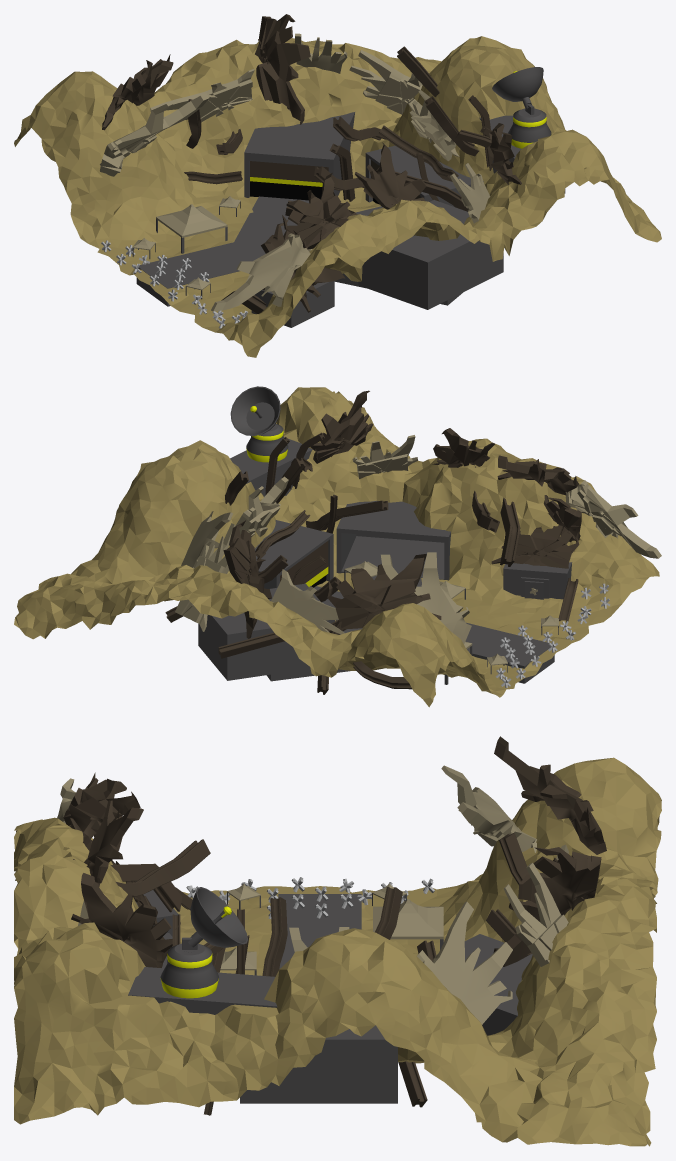
Rendered from MVP QUALITY MAP SEPERATED.fbx.
The picture shows the model from 3 angles, top to bottom: view 1: azimuth 30°, elevation 25°; view 2: azimuth 150°, elevation 25°; view 3: azimuth 270°, elevation 25°; orthographic projection. The views are drawn at different scales.
Visible parts, largest first — view 1: polySurface108, polySurface55, polySurface73, polySurface61, polySurface126, polySurface99, polySurface100, polySurface58, polySurface60, polySurface31, polySurface82, polySurface80 (+19 smaller); view 2: polySurface108, polySurface55, polySurface73, polySurface80, polySurface44, polySurface99, polySurface126, polySurface58, polySurface84, polySurface56, polySurface87, polySurface61 (+19 smaller); view 3: polySurface108, polySurface44, polySurface60, polySurface84, polySurface61, polySurface80, polySurface86, polySurface126, polySurface36, polySurface58, polySurface37, polySurface100 (+10 smaller).
Boxes of the visible parts, box(x1,y1,x2,y2) form: polySurface108: box(14, 36, 661, 357); polySurface55: box(358, 200, 503, 309); polySurface73: box(244, 112, 354, 200); polySurface61: box(255, 14, 310, 124); polySurface126: box(136, 206, 382, 306); polySurface99: box(211, 233, 310, 311); polySurface100: box(282, 173, 357, 248); polySurface58: box(100, 93, 209, 176); polySurface60: box(349, 50, 422, 114); polySurface31: box(355, 142, 426, 209); polySurface82: box(150, 69, 254, 122); polySurface80: box(102, 54, 173, 130); polySurface108: box(14, 387, 659, 707); polySurface55: box(336, 500, 450, 580); polySurface73: box(198, 583, 334, 680); polySurface80: box(327, 554, 441, 629); polySurface44: box(255, 520, 333, 588); polySurface99: box(565, 480, 661, 558); polySurface126: box(314, 586, 554, 683); polySurface58: box(381, 552, 471, 643); polySurface84: box(310, 390, 373, 463); polySurface56: box(491, 525, 579, 568); polySurface87: box(230, 386, 280, 435); polySurface61: box(223, 520, 271, 638); polySurface108: box(14, 757, 661, 1146); polySurface44: box(240, 1025, 397, 1103); polySurface60: box(417, 901, 512, 1024); polySurface84: box(71, 873, 180, 967); polySurface61: box(493, 847, 601, 966); polySurface80: box(494, 736, 606, 854); polySurface86: box(128, 967, 277, 1014); polySurface126: box(278, 894, 361, 968); polySurface36: box(503, 863, 568, 966); polySurface58: box(441, 765, 536, 852); polySurface37: box(160, 937, 218, 998); polySurface100: box(63, 772, 140, 850).
Size of the model in its own units: 25.38 by 10.07 by 22.66.
